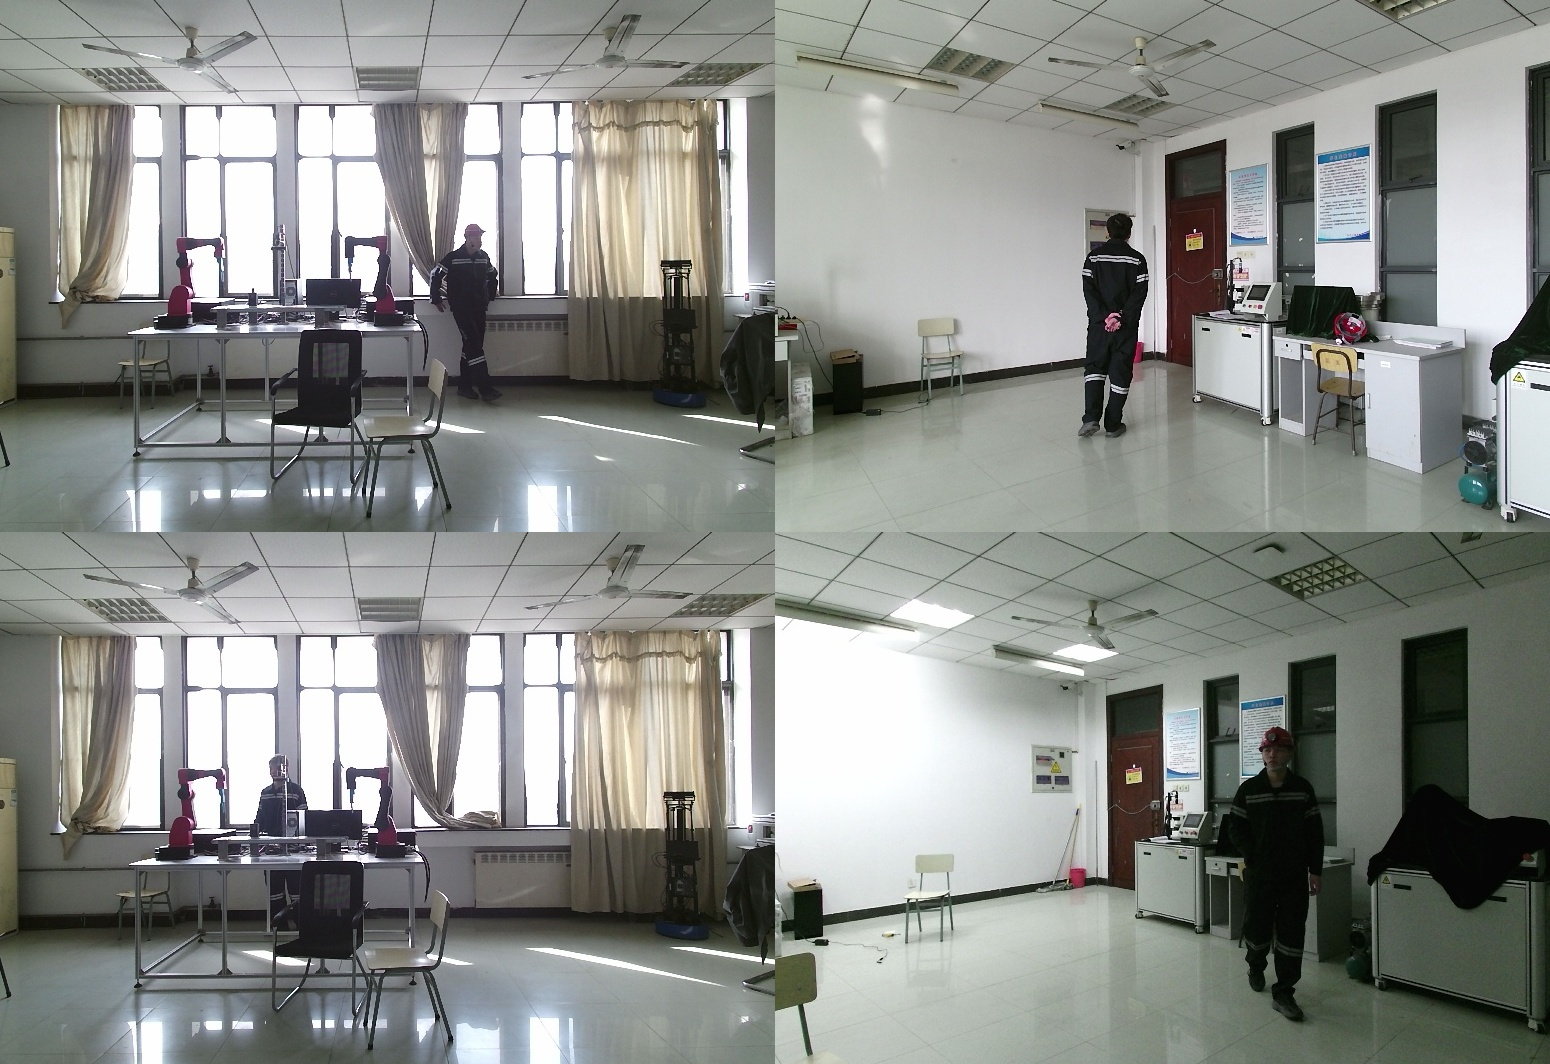person: (1219, 728, 1338, 1017), (1074, 213, 1157, 440), (433, 226, 516, 406), (255, 757, 319, 931)
